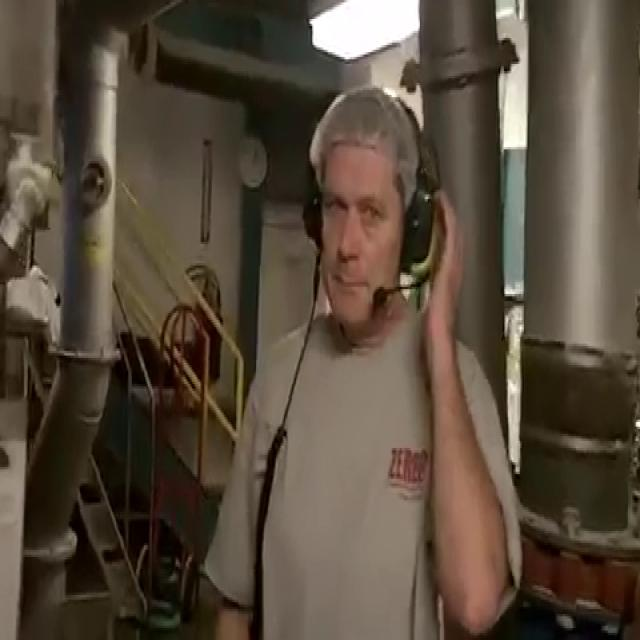earmuff: (400, 178, 443, 284), (295, 162, 329, 245)
